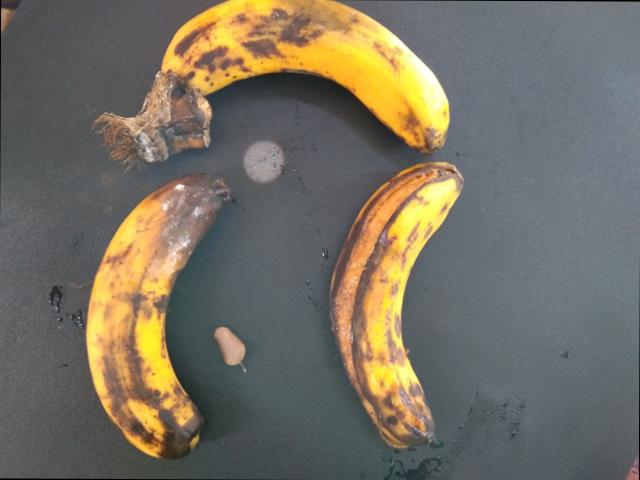overripe: (149, 0, 485, 142)
rotten: (326, 155, 478, 479), (69, 191, 240, 472)
